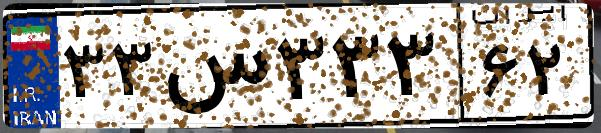2: (525, 38, 570, 115)
3: (270, 28, 330, 110), (385, 28, 445, 110), (330, 28, 385, 110), (57, 26, 110, 100), (110, 28, 158, 98)
6: (475, 38, 525, 113)
س: (158, 20, 270, 120)
